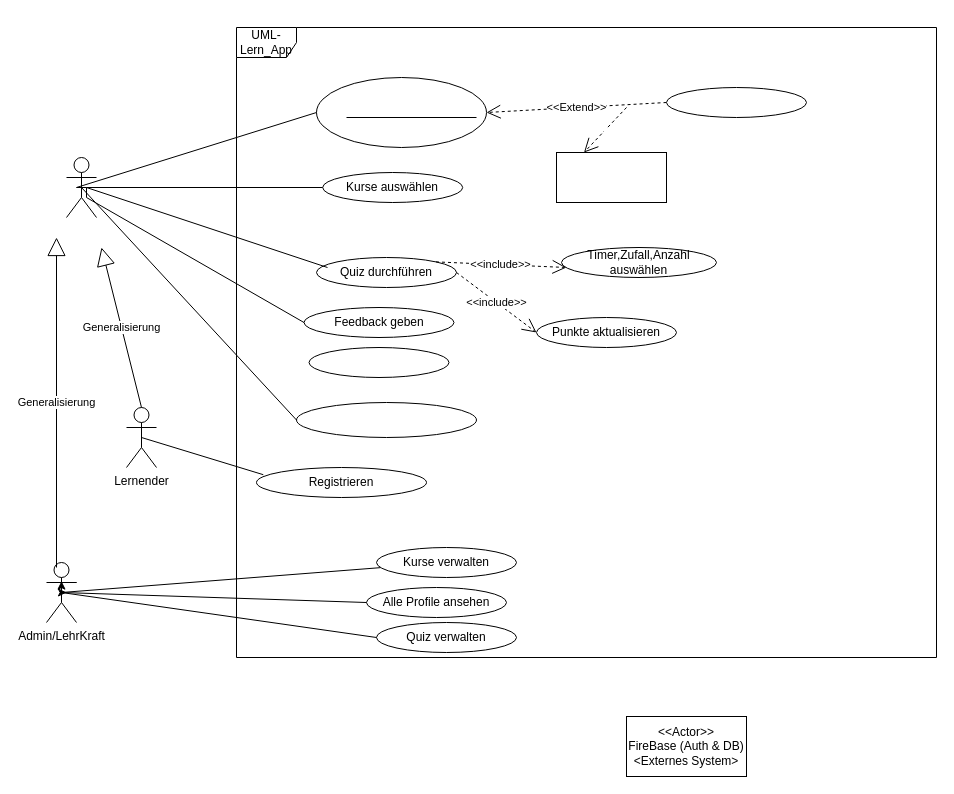
Some shapes in this 954 by 794 pixel diagram are drawn without their labels. Here are the shapes that lost their labels. From the top down, the centre of each, then its label:
At (401,112): "Einloggen Extension point".
At (736,102): "Onboading ansehen".
At (81,187): "User".
At (611,177): "condition:[angemeldet sein] extensions points: Einloggen".
At (378,362): "Notizen verwalten".
At (386,420): "Fehler ansehen".
